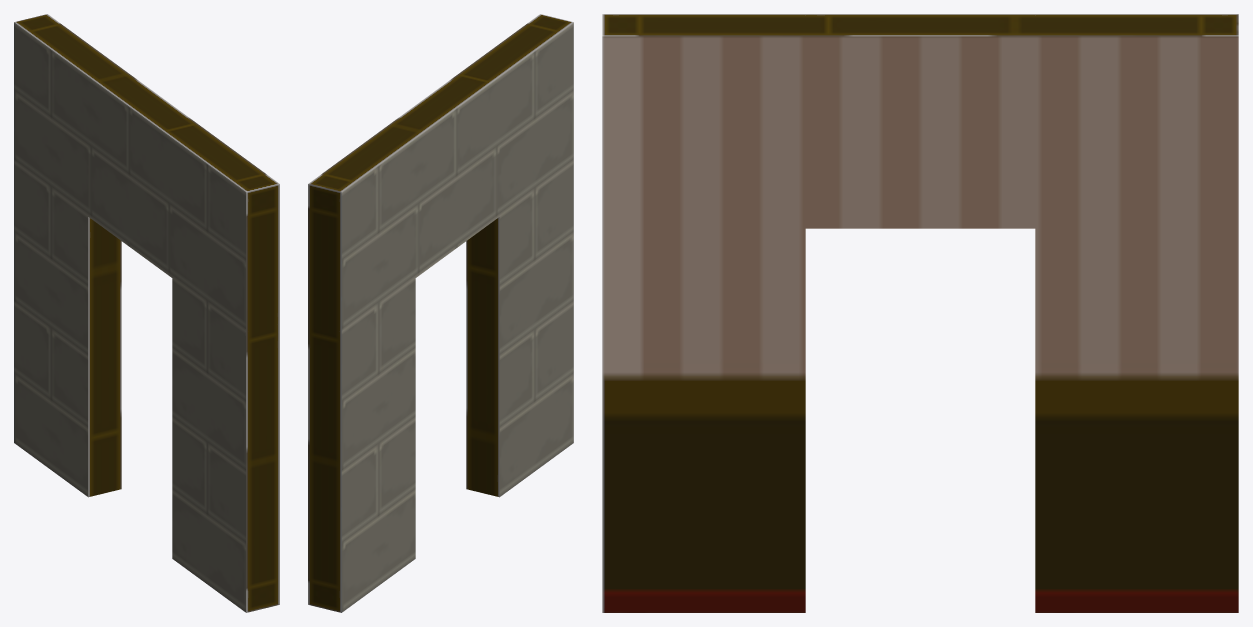
The model's file is Wall_Door_12.fbx.
3 renders of one model, left to right at view 1: azimuth 30°, elevation 25°; view 2: azimuth 150°, elevation 25°; view 3: azimuth 270°, elevation 25°, orthographic. The views are drawn at different scales.
Visible parts, largest first — view 1: Wall_Door_12; view 2: Wall_Door_12; view 3: Wall_Door_12.
Part boxes in pixels (x1=…): Wall_Door_12: x1=14, y1=14, x2=279, y2=612; Wall_Door_12: x1=308, y1=14, x2=573, y2=612; Wall_Door_12: x1=602, y1=14, x2=1238, y2=612.
Size of the model in its own units: 50 by 600 by 600.
